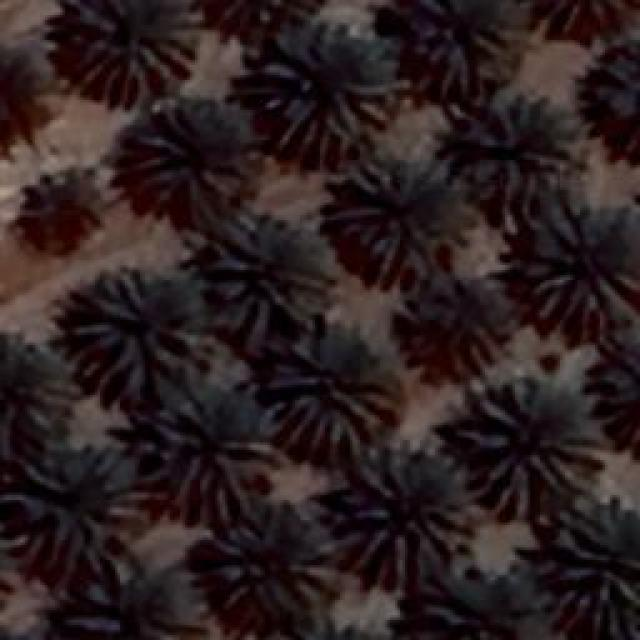PalmTree: (255, 15, 400, 160), (460, 375, 600, 520), (322, 148, 468, 282), (68, 270, 218, 400), (340, 445, 472, 585), (262, 320, 400, 452), (10, 440, 148, 565), (208, 210, 332, 332), (120, 100, 255, 210), (207, 498, 335, 612), (540, 495, 640, 640), (518, 200, 632, 325), (64, 0, 198, 105), (465, 88, 580, 208), (155, 390, 275, 502), (400, 274, 515, 378), (59, 565, 199, 640), (412, 0, 512, 92), (400, 580, 528, 640), (21, 167, 104, 255), (0, 338, 65, 442), (590, 51, 640, 161), (590, 342, 640, 452), (0, 45, 50, 150), (512, 0, 640, 41), (194, 0, 322, 41), (257, 613, 394, 640)
